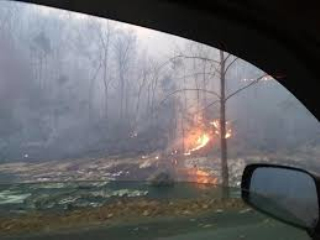fire: (188, 114, 233, 159)
smoke: (9, 15, 130, 137)
